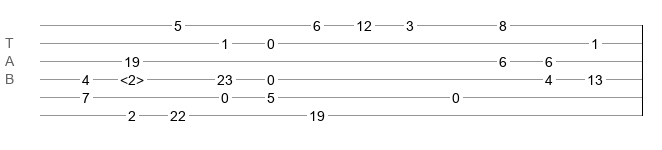0: (221, 90, 229, 100), (267, 36, 275, 46), (267, 72, 275, 82), (452, 90, 460, 100)
1: (221, 36, 229, 46), (591, 36, 599, 46)
12: (356, 18, 372, 28)
13: (587, 72, 603, 82)
19: (124, 54, 140, 64), (309, 108, 325, 118)
2: (128, 108, 136, 118)
22: (170, 108, 186, 118)
23: (217, 72, 233, 82)
3: (406, 18, 414, 28)
4: (82, 72, 90, 82), (545, 72, 553, 82)
5: (174, 18, 182, 28), (267, 90, 275, 100)
6: (313, 18, 321, 28), (499, 54, 507, 64), (545, 54, 553, 64)
7: (82, 90, 90, 100)
8: (499, 18, 507, 28)
harmonic: (120, 72, 144, 82)
